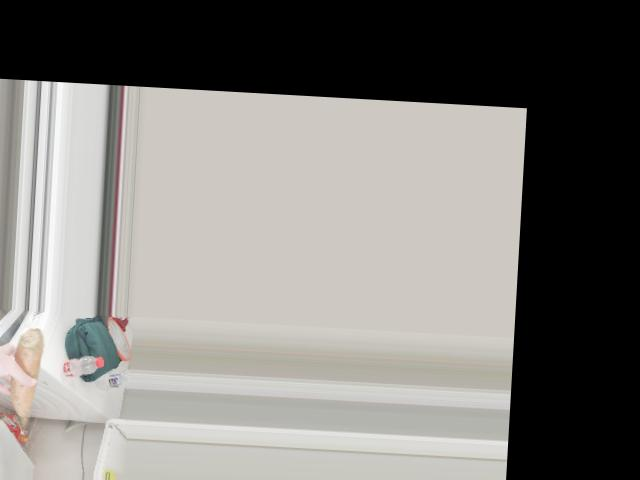sweet_potato: (9, 340, 35, 416)
